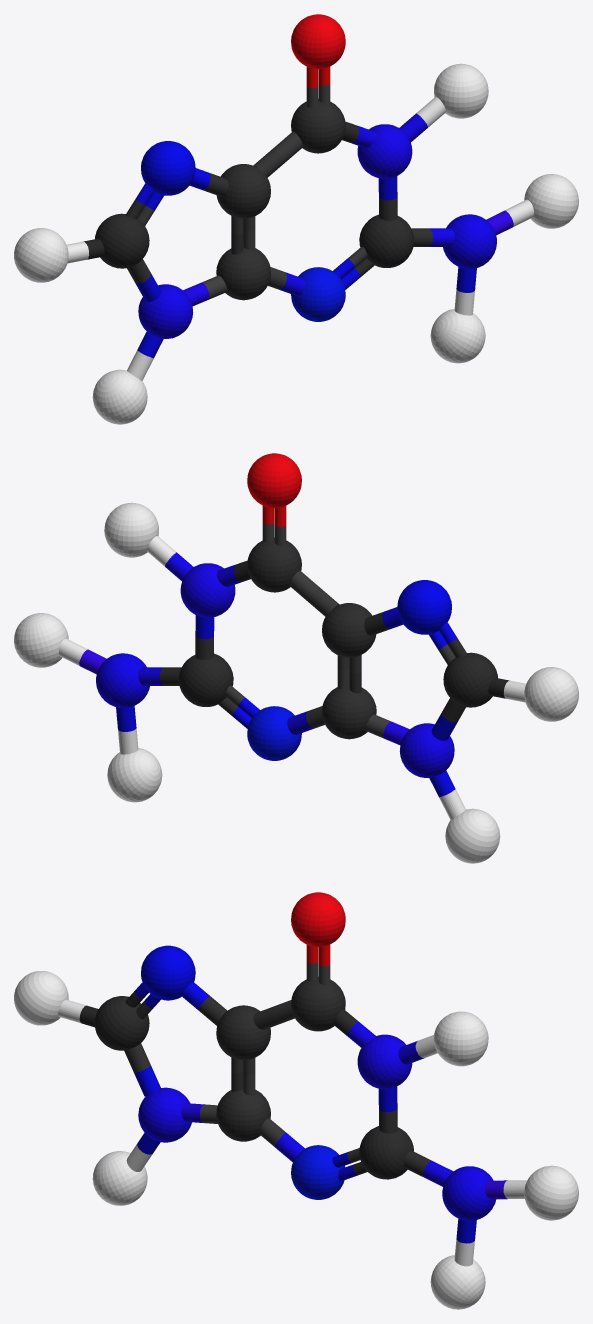
Rendered from Molecules.fbx.
The picture shows the model from 3 angles, top to bottom: view 1: azimuth 30°, elevation 25°; view 2: azimuth 150°, elevation 25°; view 3: azimuth 330°, elevation 25°; orthographic projection.
Visible parts, largest first — view 1: Sphere.004, Sphere.009, Sphere.006, Sphere.011, Sphere.015, Sphere.014, Sphere.013, Sphere.010, Sphere.007, Sphere.003, Sphere.012, Sphere.005 (+4 smaller); view 2: Sphere.004, Sphere.009, Sphere.006, Sphere.011, Sphere.015, Sphere.014, Sphere.013, Sphere.010, Sphere.007, Sphere.003, Sphere.012, Sphere.005 (+4 smaller); view 3: Sphere.013, Sphere.004, Sphere.015, Sphere.006, Sphere.009, Sphere.014, Sphere.003, Sphere, Sphere.012, Sphere.002, Sphere.001, Sphere.010 (+4 smaller).
Boxes of the visible parts, x1,y1,x2,y2 form: Sphere.004: (291, 14, 345, 69); Sphere.009: (14, 228, 68, 282); Sphere.006: (141, 141, 195, 195); Sphere.011: (92, 369, 147, 424); Sphere.015: (434, 63, 488, 118); Sphere.014: (430, 309, 485, 363); Sphere.013: (524, 174, 578, 228); Sphere.010: (95, 213, 149, 268); Sphere.007: (359, 214, 413, 267); Sphere.003: (291, 99, 345, 153); Sphere.012: (443, 214, 496, 268); Sphere.005: (138, 284, 193, 338); Sphere.004: (247, 453, 301, 508); Sphere.009: (524, 667, 578, 721); Sphere.006: (397, 580, 451, 634); Sphere.011: (445, 808, 500, 863); Sphere.015: (104, 502, 158, 557); Sphere.014: (107, 748, 162, 802); Sphere.013: (14, 613, 68, 667); Sphere.010: (443, 652, 497, 707); Sphere.007: (179, 653, 233, 706); Sphere.003: (247, 538, 301, 592); Sphere.012: (96, 653, 149, 707); Sphere.005: (399, 723, 454, 777); Sphere.013: (524, 1165, 578, 1220); Sphere.004: (291, 892, 345, 947); Sphere.015: (434, 1011, 488, 1066); Sphere.006: (141, 945, 195, 1000); Sphere.009: (14, 971, 68, 1025); Sphere.014: (430, 1255, 485, 1309); Sphere.003: (291, 977, 345, 1031); Sphere: (291, 1145, 344, 1199); Sphere.012: (442, 1166, 496, 1220); Sphere.002: (216, 1005, 270, 1060); Sphere.001: (216, 1089, 270, 1141); Sphere.010: (94, 996, 149, 1050).
Bounding box in the file's own units: 2345 × 1519 × 200.
